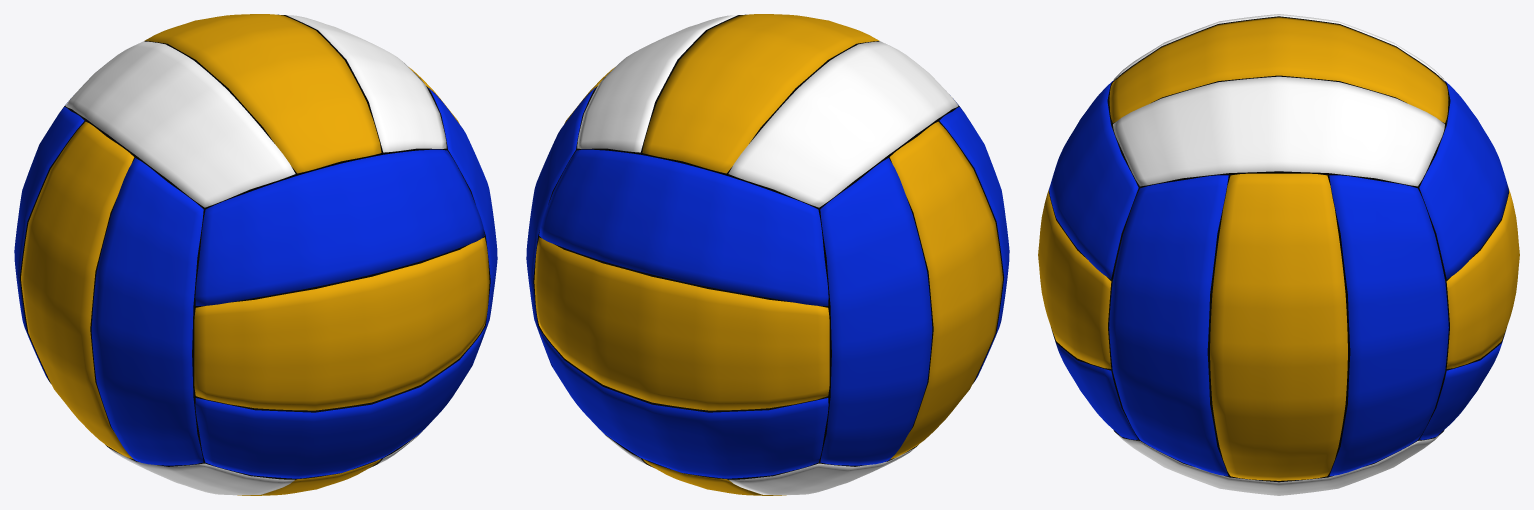
The model's file is ball.glb.
3 renders of one model, left to right at view 1: azimuth 30°, elevation 25°; view 2: azimuth 150°, elevation 25°; view 3: azimuth 270°, elevation 25°, orthographic.
Visible parts, largest first — view 1: Cube; view 2: Cube; view 3: Cube.
Boxes of the visible parts, x1,y1,x2,y2 form: Cube: [14, 14, 497, 495]; Cube: [526, 14, 1009, 495]; Cube: [1038, 14, 1519, 495].
Size of the model in its own units: 3.58 by 3.58 by 3.58.
